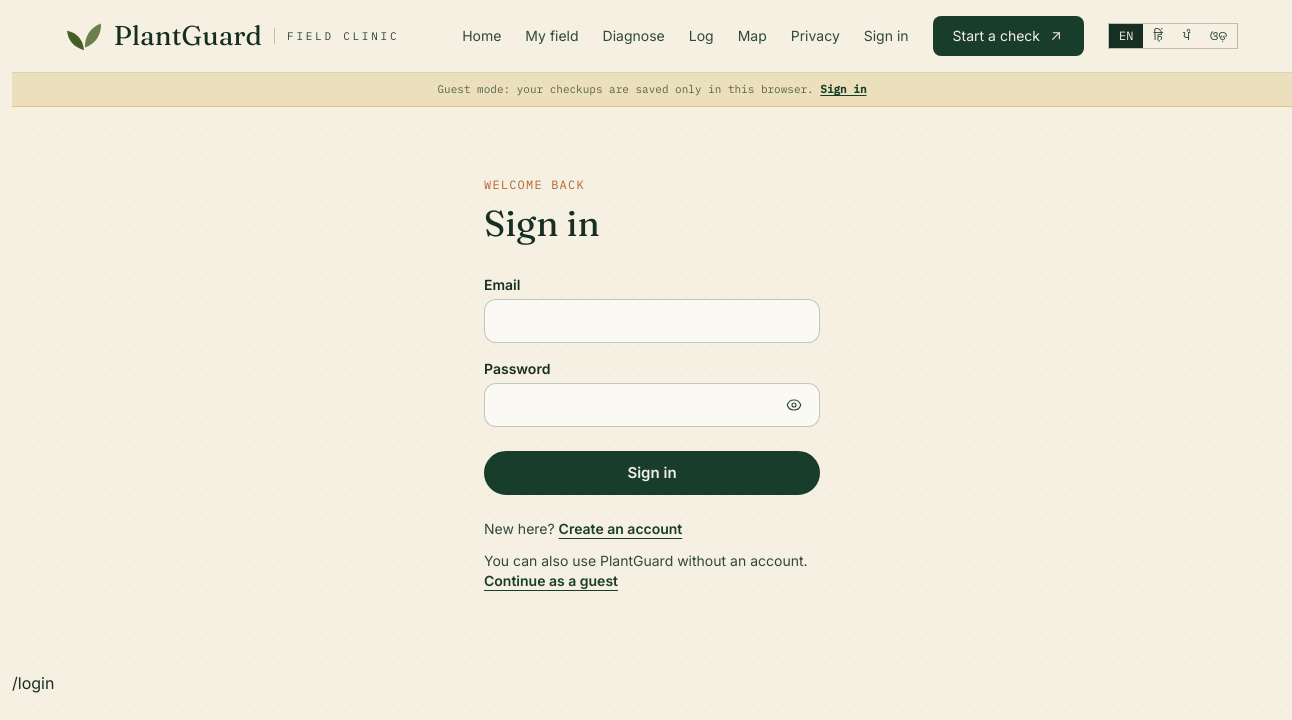
Scenario: signing in › the right details sign in, keep the session, and go to the overview when this browser has no guest records
Type "asha@example.com" into the field labelled "Email" at (652,320), box [484, 298, 820, 342]
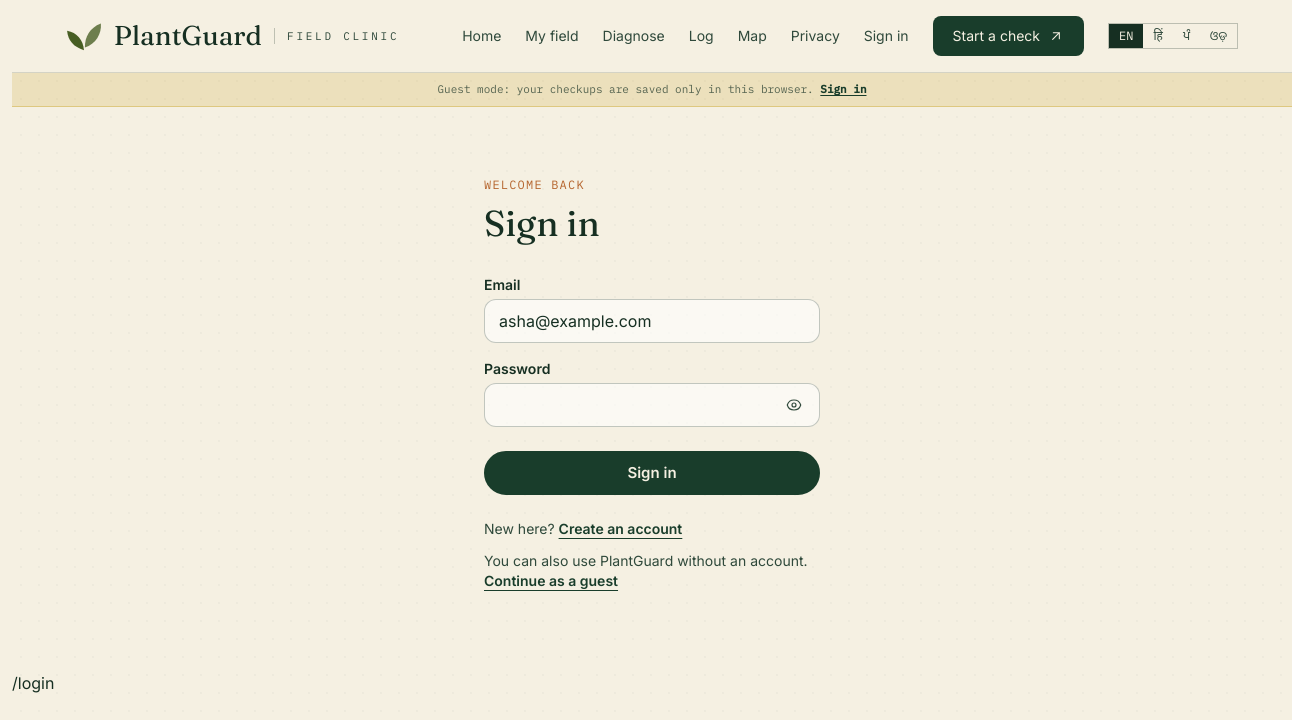
Type "correct horse battery" into the password field labelled "Password" at (652,404), box [484, 382, 820, 426]
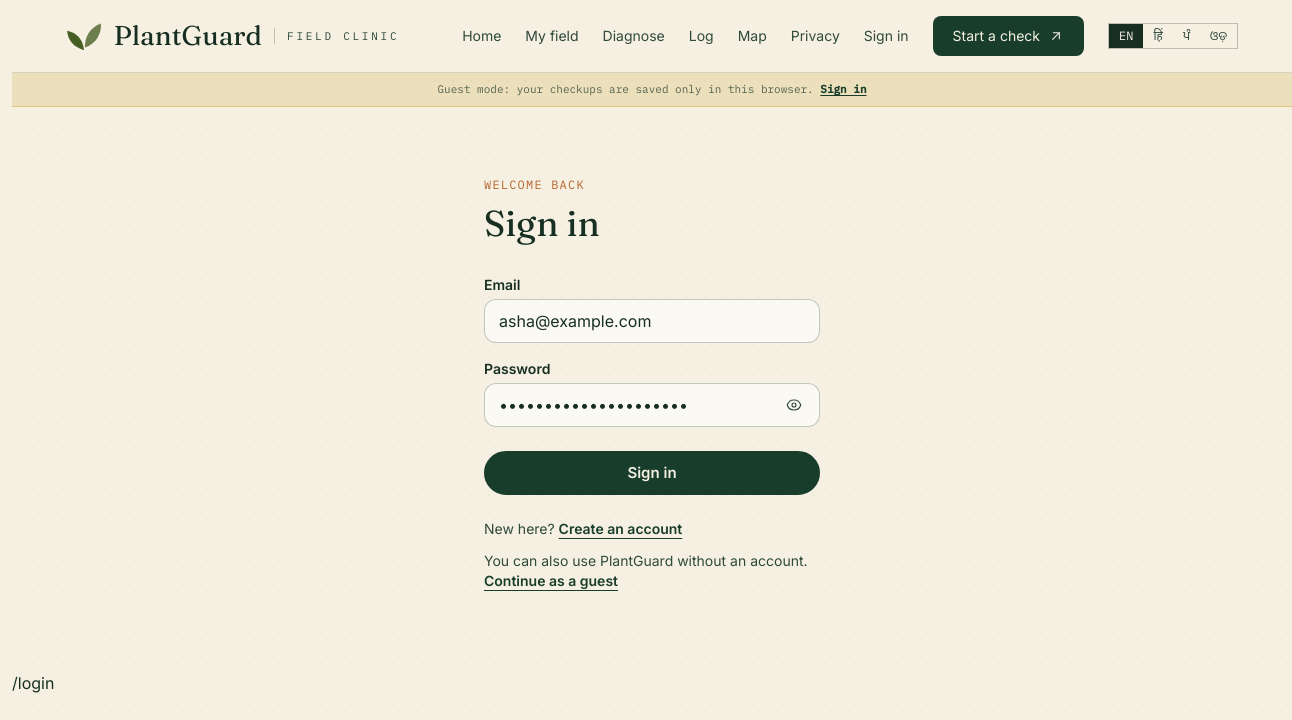
Click the button "Sign in" at (652,472), box [484, 450, 820, 494]
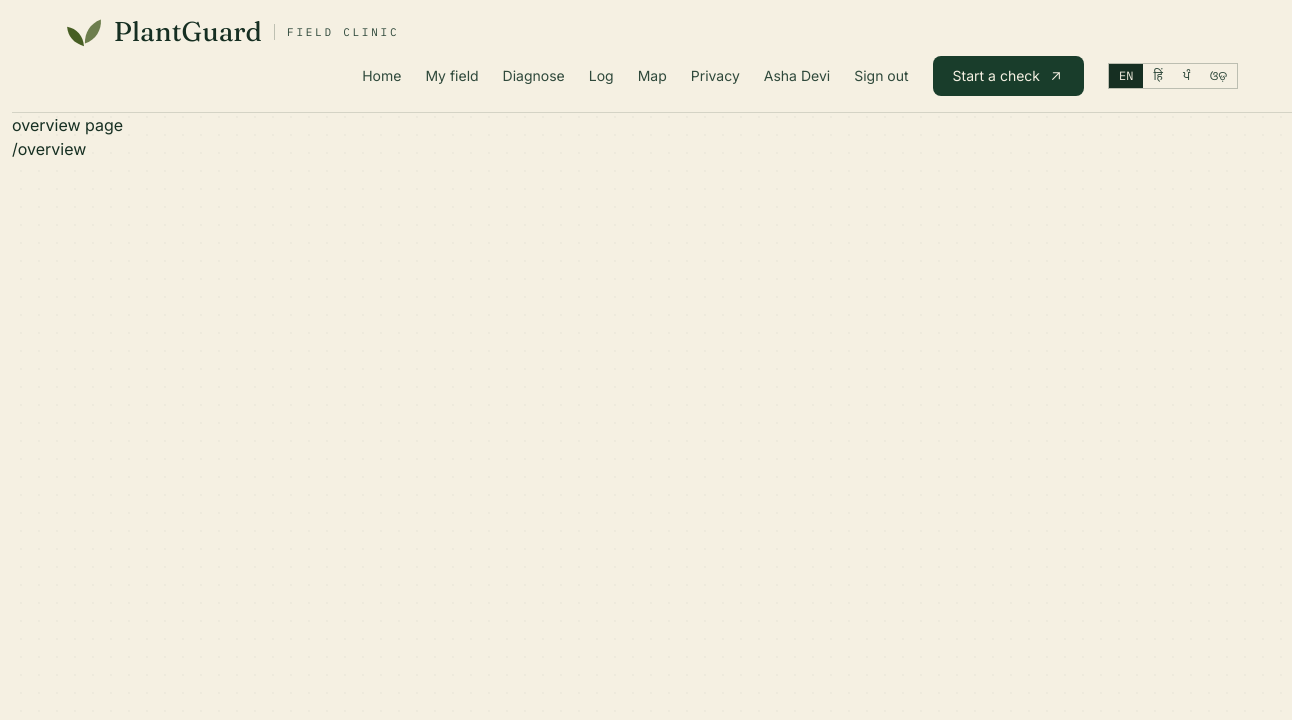
expect the text with test id "where" reads "/overview": met, box [12, 139, 86, 159]
